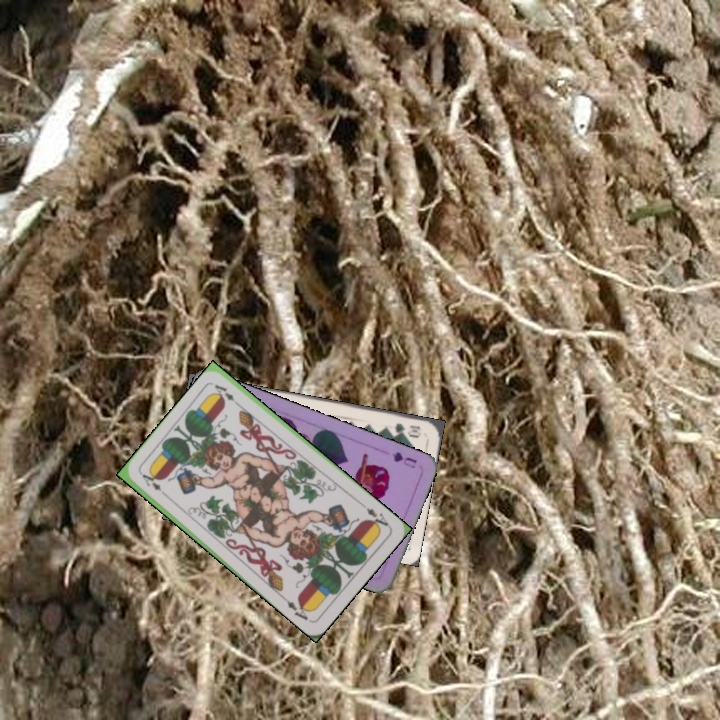EA: (358, 500, 392, 533), (138, 470, 171, 500)
G10: (390, 419, 424, 439)
GU: (388, 448, 420, 471)
